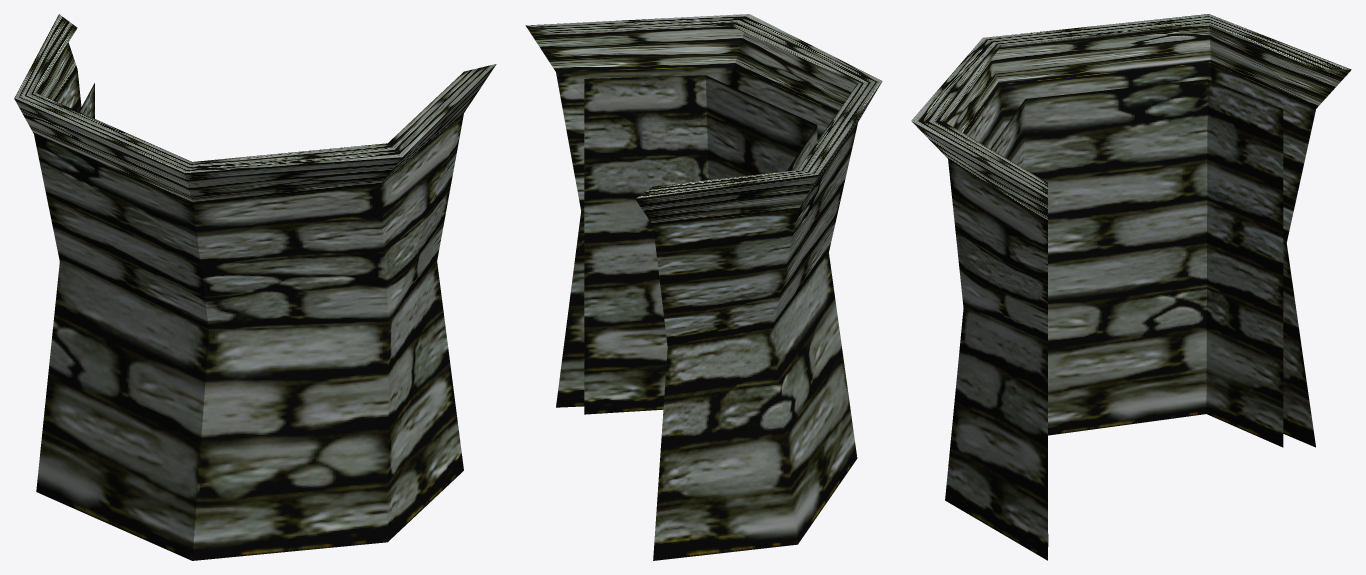
The model's file is W_Erker1_Hinterseite [Stein]_649.glb.
The picture shows the model from 3 angles, left to right: view 1: azimuth 30°, elevation 25°; view 2: azimuth 150°, elevation 25°; view 3: azimuth 270°, elevation 25°; orthographic projection. The views are drawn at different scales.
Parts seen in each view (by area): view 1: pPlaneShape7, pPlaneShape6; view 2: pPlaneShape7, pPlaneShape5, pPlaneShape6; view 3: pPlaneShape5, pPlaneShape7, pPlaneShape6.
Boxes of the visible parts, <box> form: pPlaneShape7: <box>34,70,463,560</box>; pPlaneShape6: <box>14,14,496,203</box>; pPlaneShape7: <box>556,67,857,560</box>; pPlaneShape5: <box>584,75,817,414</box>; pPlaneShape6: <box>525,14,882,225</box>; pPlaneShape5: <box>990,79,1283,546</box>; pPlaneShape7: <box>945,63,1315,560</box>; pPlaneShape6: <box>911,14,1351,221</box>.
Size of the model in its own units: 0.4059 by 0.3891 by 0.4111.
3 materials, 3 textured.
